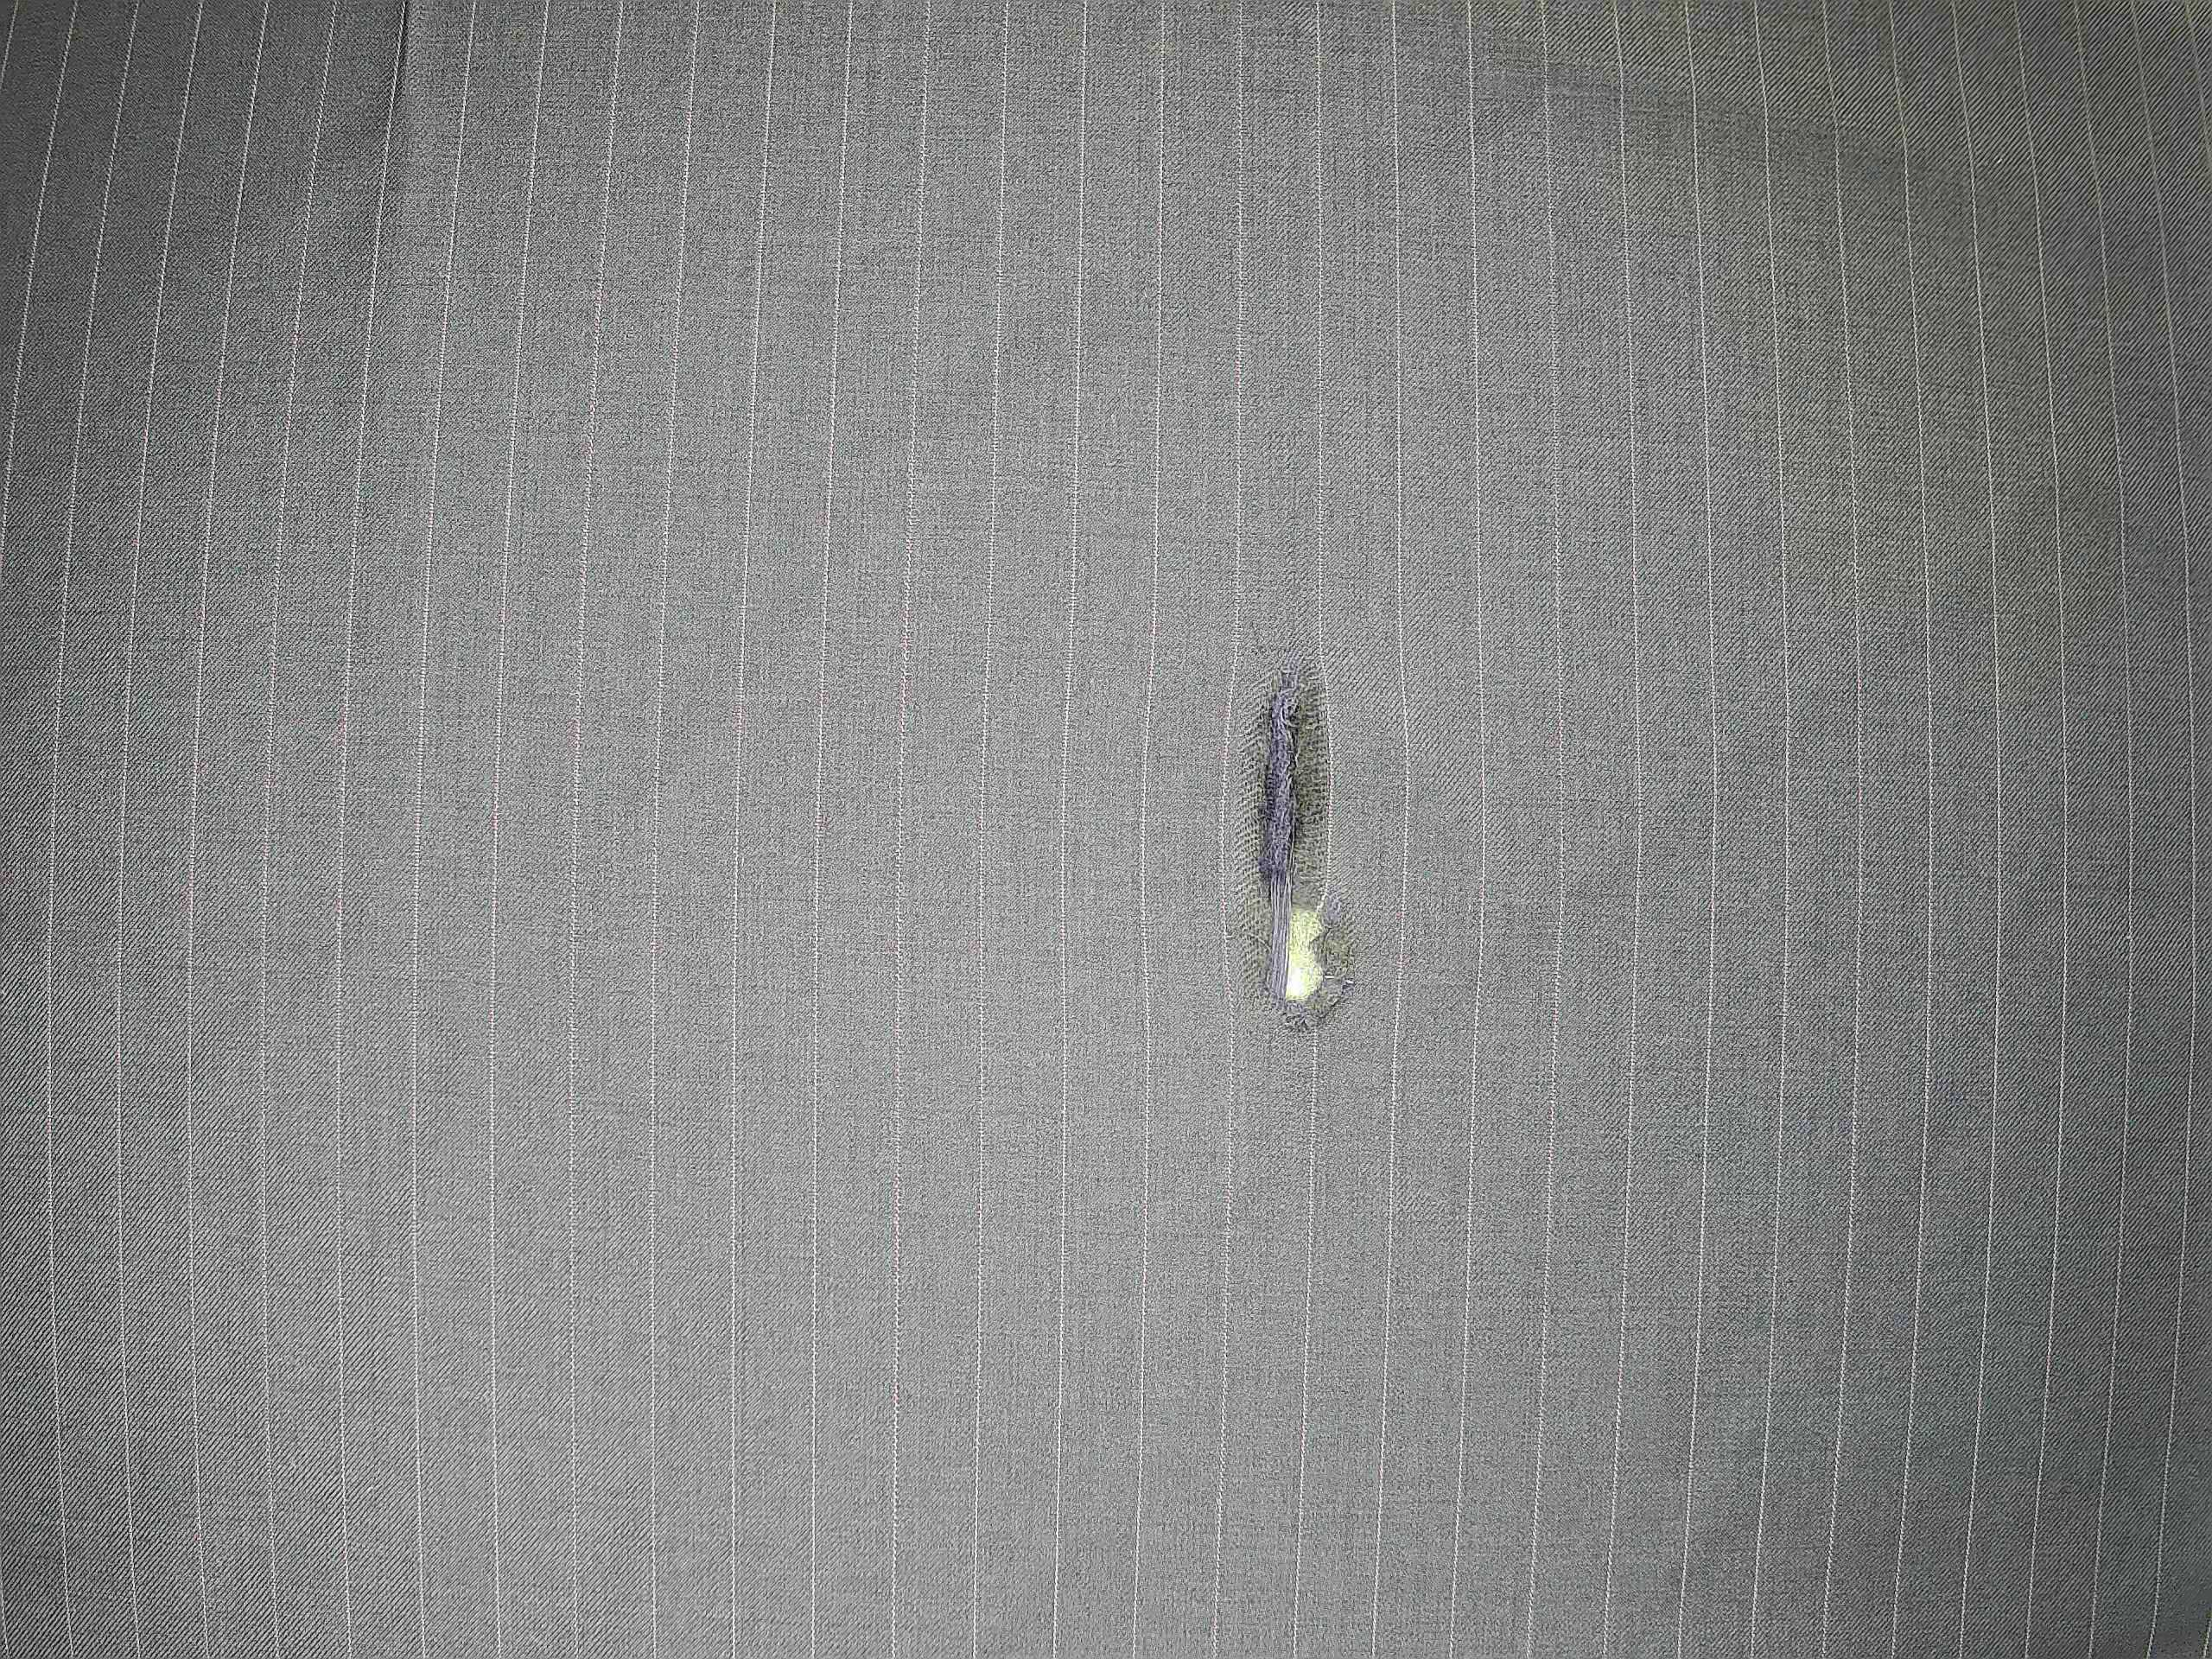brushed-hole: (1207, 631, 1390, 1065)
